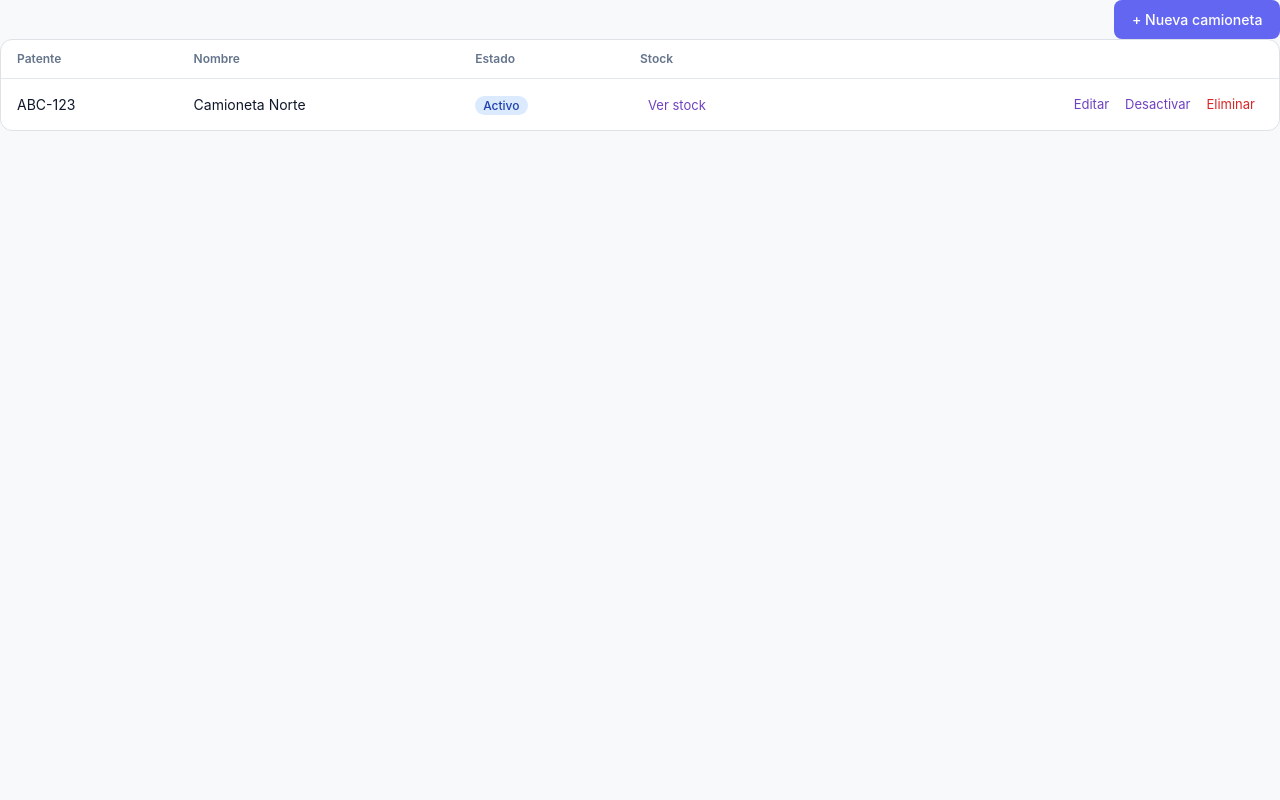
VehiclesBody — mutations › opens edit modal on click Editar
Click the button "Editar".
click(1091, 104)  # box [1066, 91, 1117, 118]
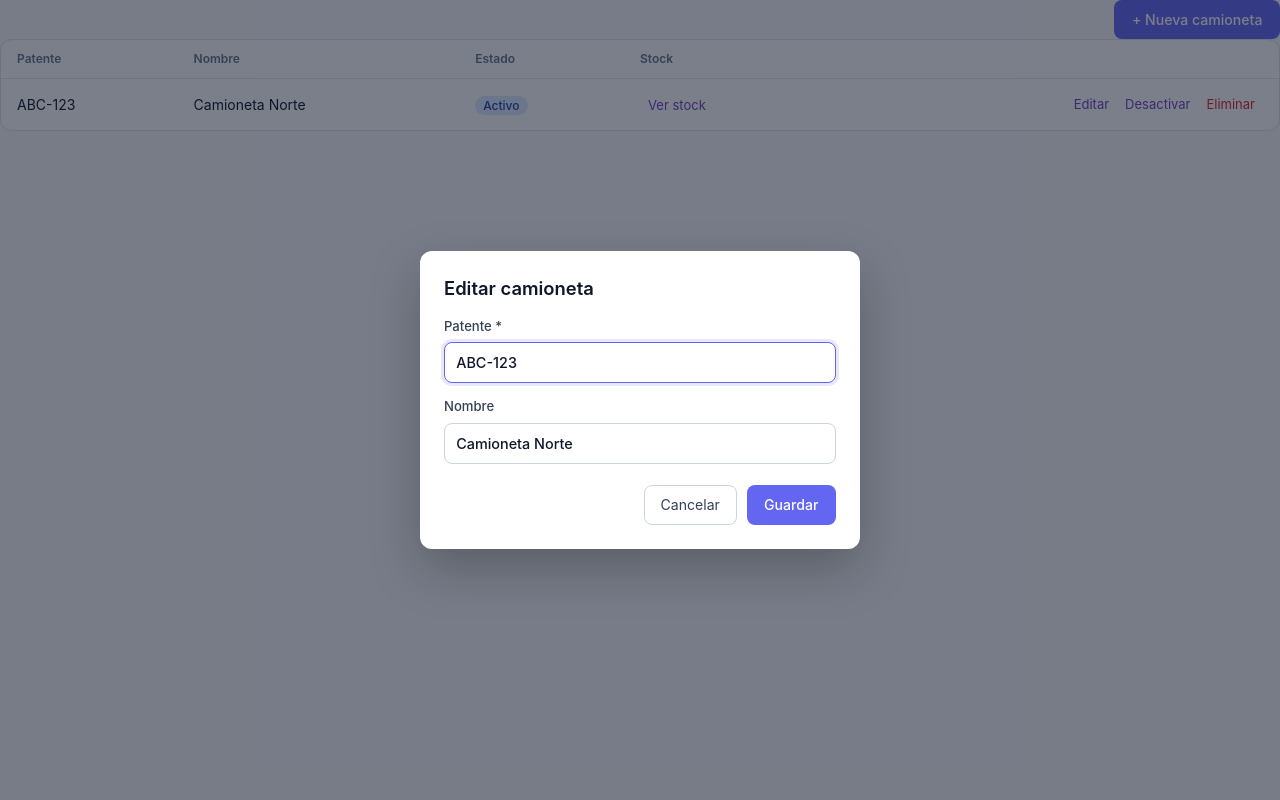
Now the heading "Editar camioneta" is shown, box [444, 277, 594, 299]
